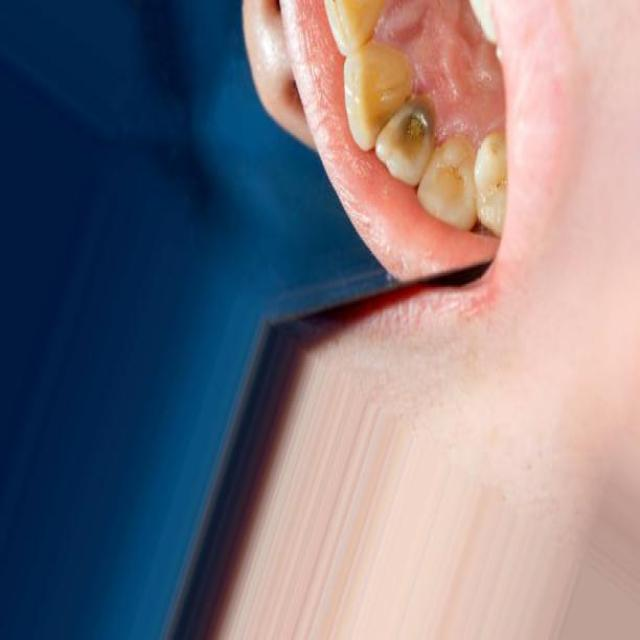caries: (398, 95, 437, 153)
